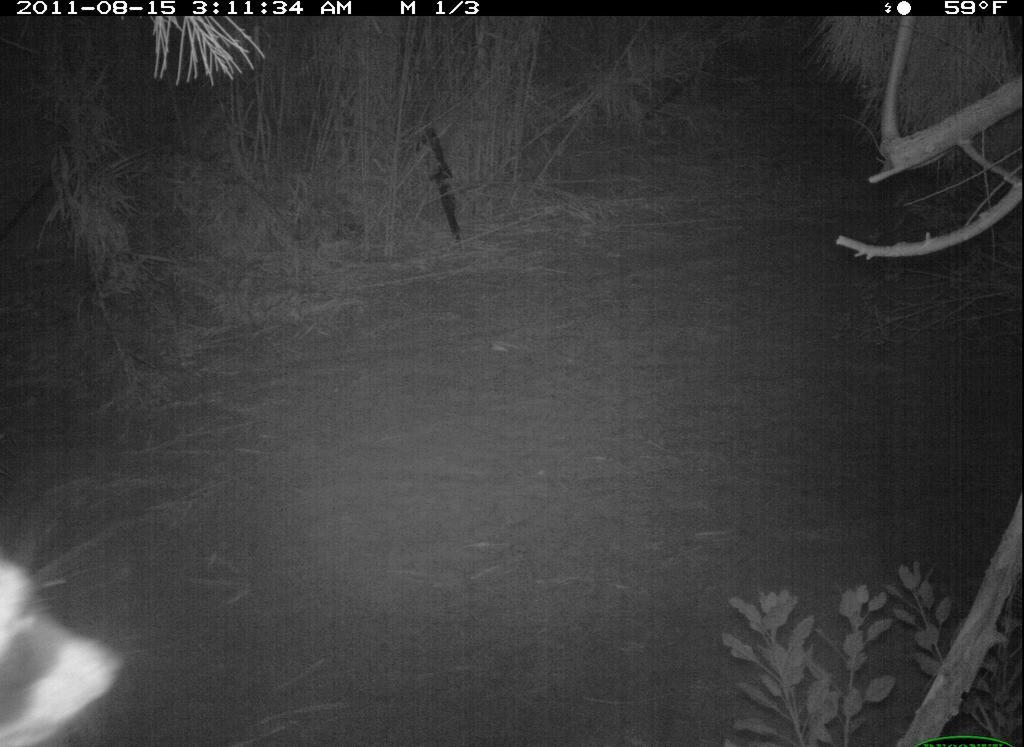raccoon: (3, 511, 129, 745)
